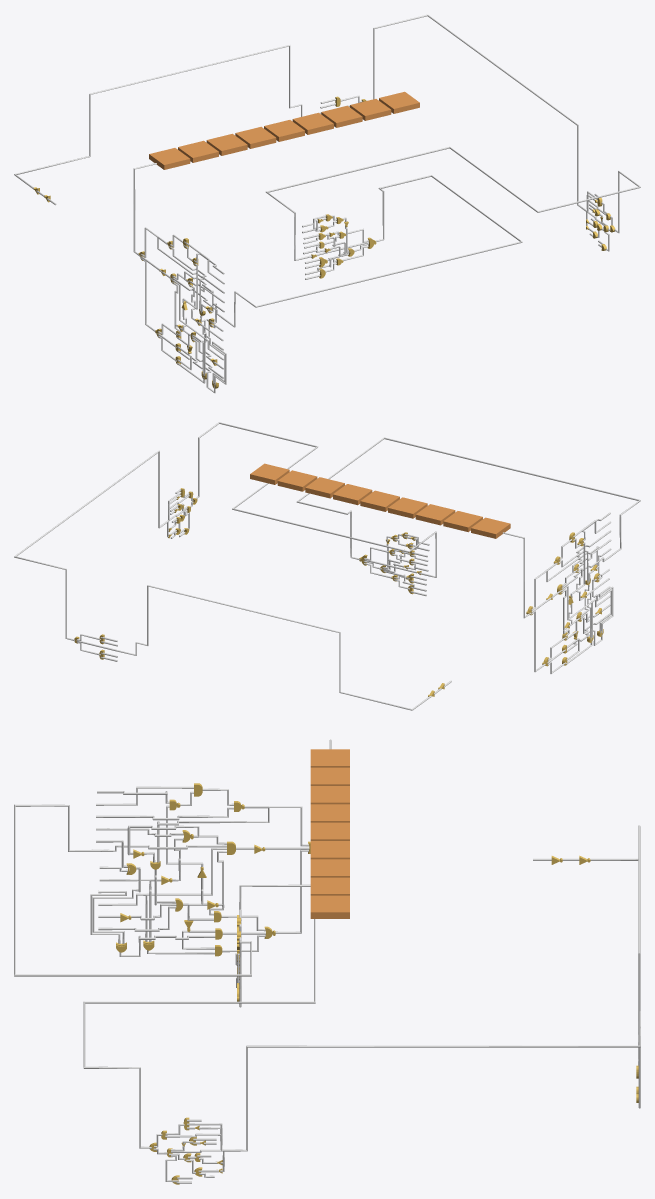
File: UC ROOM.fbx
The picture shows the model from 3 angles, top to bottom: view 1: azimuth 30°, elevation 25°; view 2: azimuth 150°, elevation 25°; view 3: azimuth 270°, elevation 25°; orthographic projection. The views are drawn at different scales.
Parts seen in each view (by area): view 1: Cube.006, Plane.044, Plane.106, Plane.016, Plane.084; view 2: Cube.006, Plane.044, Plane.106, Plane.016, Plane.084; view 3: Cube.006, Plane.084, Plane.044, Plane.106, Plane.016, Plane.061, Plane.085.
Boxes of the visible parts, x1,y1,x2,y2 form: Cube.006: (149, 91, 419, 169); Plane.044: (221, 175, 522, 327); Plane.106: (265, 146, 640, 260); Plane.016: (14, 45, 321, 189); Plane.084: (373, 14, 584, 209); Cube.006: (250, 463, 510, 538); Plane.044: (296, 437, 640, 560); Plane.106: (195, 422, 436, 577); Plane.016: (117, 585, 431, 710); Plane.084: (14, 450, 166, 641); Cube.006: (310, 749, 349, 918); Plane.084: (230, 1011, 640, 1151); Plane.044: (14, 804, 251, 1005); Plane.106: (83, 884, 315, 1148); Plane.016: (590, 825, 640, 1065); Plane.061: (157, 806, 308, 862); Plane.085: (165, 1123, 230, 1172).
Bounding box in the file's own units: 2927 × 1143 × 2934.
